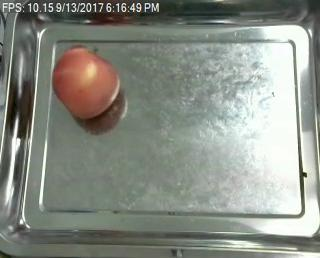apple: (52, 46, 121, 119)
